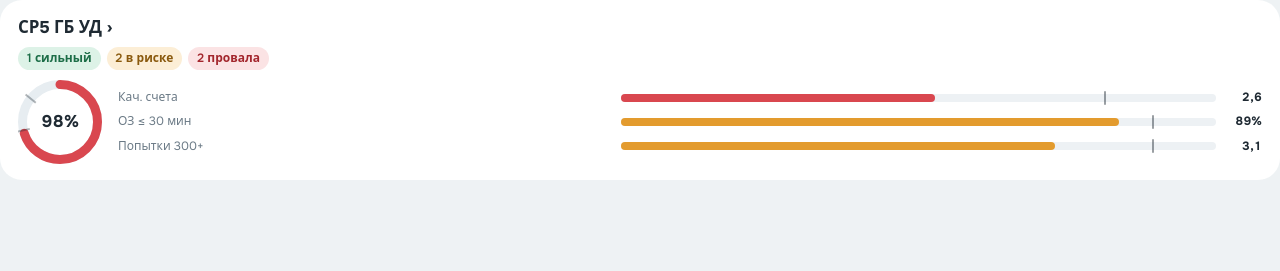
Test case: GroupCard zone buttons › lists the metrics of the clicked zone and hides them on a second click
This screenshot has width=1280, height=271.
What coordinates should you click on to do the following:
click the button "2 провала"
I would click on:
 (229, 58)
Its box is [188, 47, 269, 70].
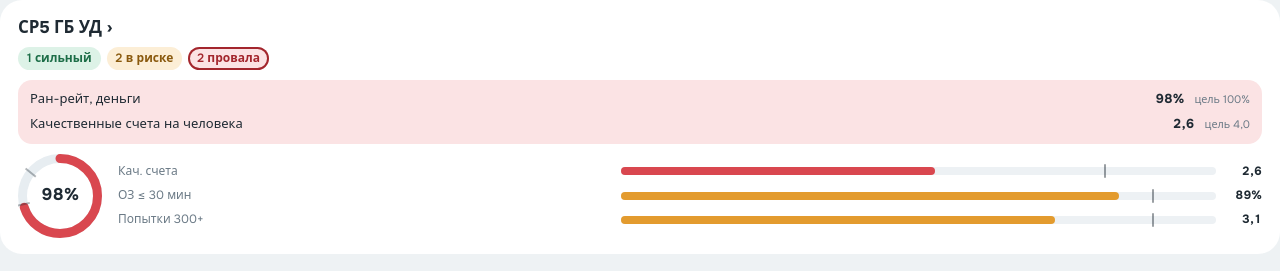
Expected: the text "Качественные счета на человека" is shown, [30, 115, 243, 132]
What coordinates should you click on to do the following:
click the button "2 провала"
I would click on:
 (229, 58)
Its box is [188, 47, 269, 70].
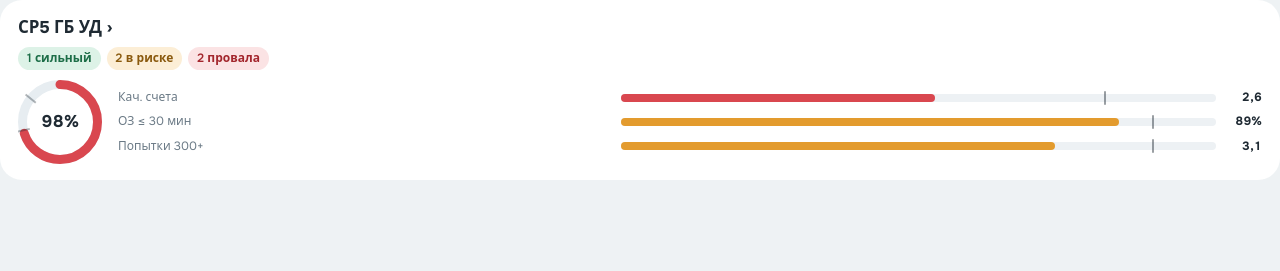
Expected: the list "Провалы" is gone
